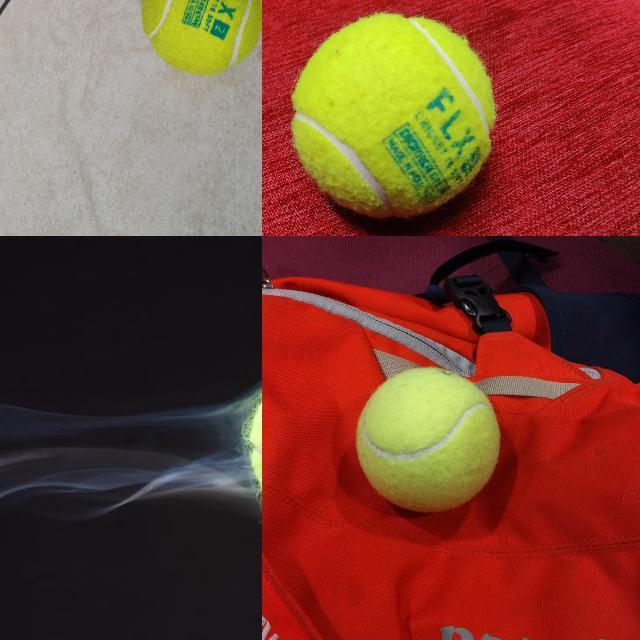tennis-ball: (291, 12, 497, 219), (355, 366, 501, 514), (141, 0, 261, 76)
